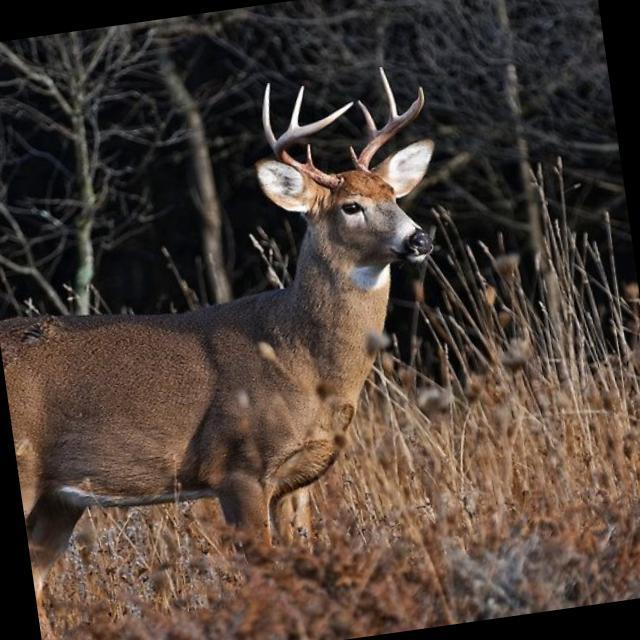L-G1: (348, 145, 358, 166)
L-G2: (356, 100, 378, 142)
L-G3: (354, 85, 425, 172), (378, 65, 399, 123)
R-G1: (305, 143, 314, 167)
R-G2: (261, 81, 277, 150)
R-G3: (272, 100, 355, 192), (288, 84, 305, 129)
